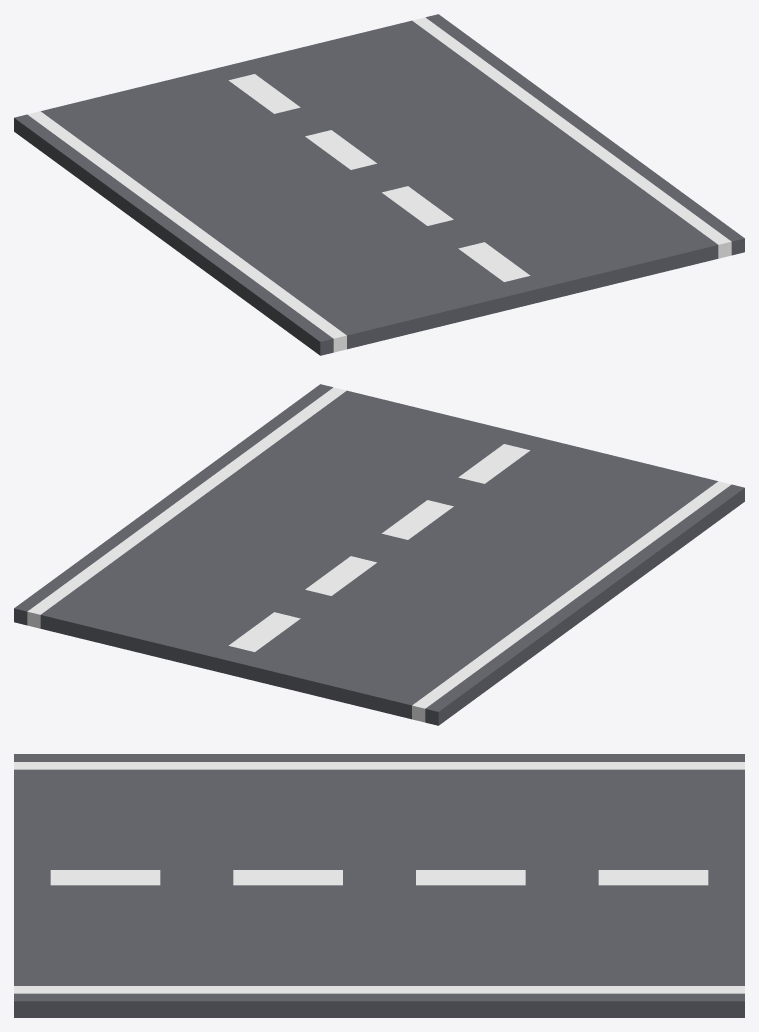
The model's file is road.obj.
3 renders of one model, top to bottom at view 1: azimuth 30°, elevation 25°; view 2: azimuth 150°, elevation 25°; view 3: azimuth 270°, elevation 25°, orthographic. The views are drawn at different scales.
Bounding box in the file's own units: 3.2 × 0.1 × 4.
Materials: 1 (1 with a texture image).
